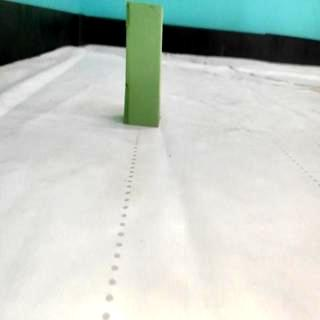greenbox: (124, 0, 164, 127)
